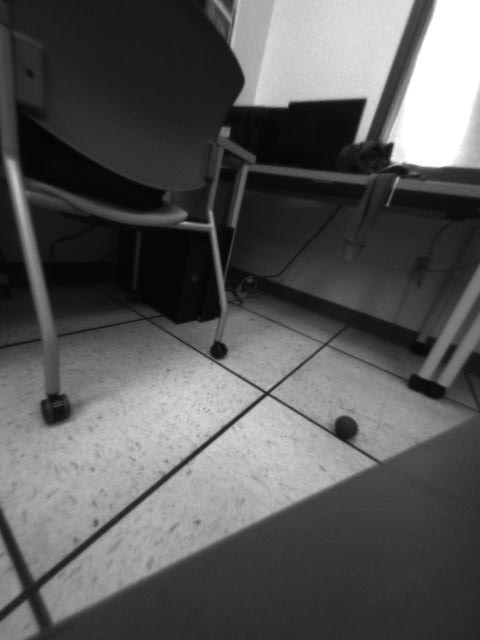dogtoy: (329, 406, 364, 446)
